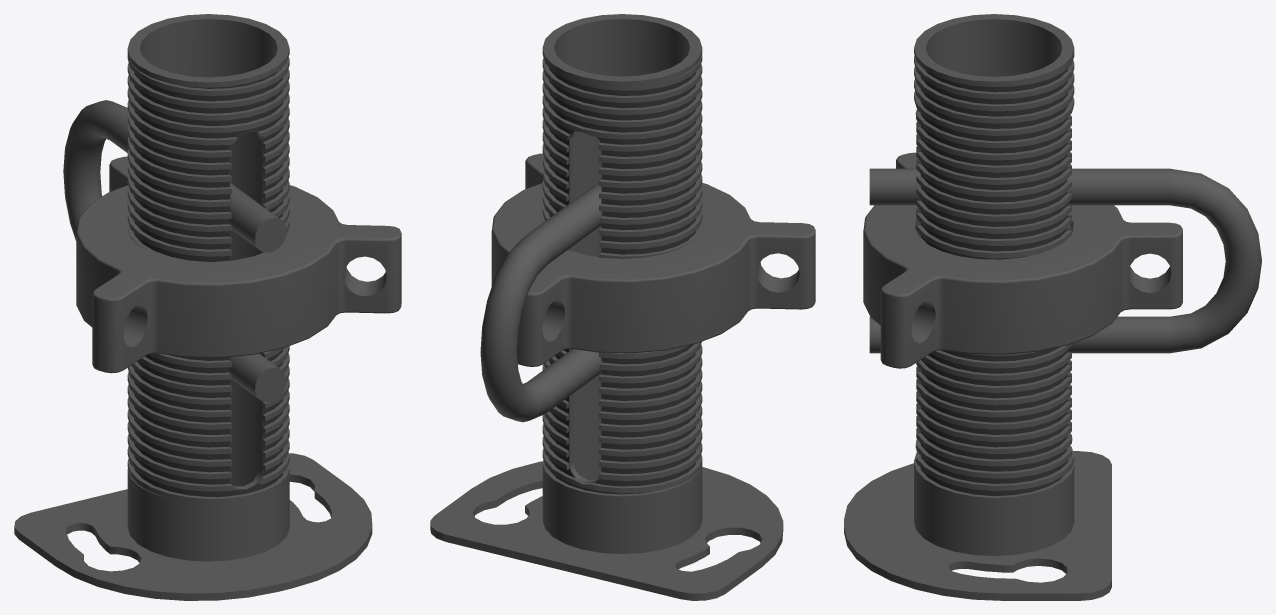
File: screw-pair.glb
3 views of the same model, side by side, from view 1: azimuth 30°, elevation 25°; view 2: azimuth 150°, elevation 25°; view 3: azimuth 270°, elevation 25° (orthographic).
Visible parts, largest first — view 1: screw_pair_01_object; view 2: screw_pair_01_object; view 3: screw_pair_01_object.
Boxes of the visible parts, left/top/right/bottom form: screw_pair_01_object: left=14, top=14, right=401, bottom=600; screw_pair_01_object: left=430, top=14, right=815, bottom=600; screw_pair_01_object: left=844, top=14, right=1261, bottom=600.
Size of the model in its own units: 0.1598 by 0.246 by 0.1934.
1 material, 1 textured.
